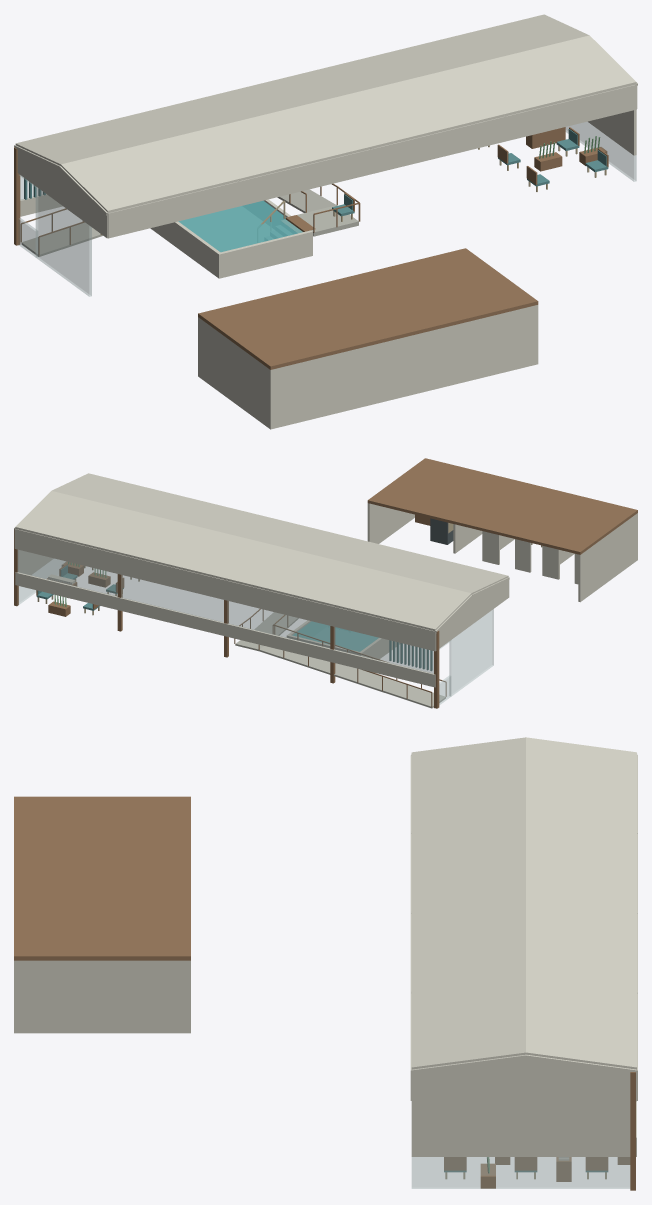
File: VIP_QUIET_FITTED_r005.glb
The picture shows the model from 3 angles, top to bottom: view 1: azimuth 30°, elevation 25°; view 2: azimuth 150°, elevation 25°; view 3: azimuth 270°, elevation 25°; orthographic projection. The views are drawn at different scales.
Parts seen in each view (by area): view 1: F005__G2VIP_QUIET_RoofPanel1, F005__G2VIP_QUIET_AftRoof, F005__G2VIP_QUIET_RoofPanel0, F005__G2VIP_QUIET_AftBack, QUIET_F005_Weather_Aft, F005__G2VIP_QUIET_AftWest, QUIET_F005_InnerWallBody, QUIET_F005_Water_Illustrative, QUIET_F005_TankAft, QUIET_F005_OuterWallLower, QUIET_F005_TankWest, QUIET_F005_Weather_Side-1Aft (+6 smaller); view 2: F005__G2VIP_QUIET_RoofPanel0, F005__G2VIP_QUIET_AftRoof, F005__G2VIP_QUIET_RoofPanel1, F005__G2VIP_QUIET_ForeClerestory, QUIET_F005_Weather_Fore, F005__G2VIP_QUIET_ForePlinth, F005__G2VIP_QUIET_AftWest, QUIET_F005_InnerWallBody, QUIET_F005_RampLeg1, F005__G2VIP_QUIET_AftEast, QUIET_F005_Water_Illustrative, QUIET_F005_Weather_Side-1Aft (+10 smaller); view 3: F005__G2VIP_QUIET_RoofPanel1, F005__G2VIP_QUIET_RoofPanel0, F005__G2VIP_QUIET_AftRoof, F005__G2VIP_QUIET_AftEast, F005__G2VIP_QUIET_OuterWall, QUIET_F005_OuterWallLower, QUIET_F005_Weather_Side1Aft, QUIET_F005_Weather_Side1Fore, QUIET_F005_Weather_Aft.
Boxes of the visible parts, x1,y1,x2,y2 form: F005__G2VIP_QUIET_RoofPanel1: [61, 35, 636, 212]; F005__G2VIP_QUIET_AftRoof: [198, 248, 538, 369]; F005__G2VIP_QUIET_RoofPanel0: [15, 14, 589, 165]; F005__G2VIP_QUIET_AftBack: [269, 305, 538, 429]; QUIET_F005_Weather_Aft: [107, 84, 636, 238]; F005__G2VIP_QUIET_AftWest: [198, 317, 268, 427]; QUIET_F005_InnerWallBody: [35, 187, 91, 296]; QUIET_F005_Water_Illustrative: [178, 200, 302, 252]; QUIET_F005_TankAft: [217, 230, 312, 277]; QUIET_F005_OuterWallLower: [565, 122, 636, 181]; QUIET_F005_TankWest: [152, 221, 219, 275]; QUIET_F005_Weather_Side-1Aft: [60, 170, 107, 238]; F005__G2VIP_QUIET_RoofPanel0: [15, 491, 471, 630]; F005__G2VIP_QUIET_AftRoof: [367, 458, 637, 554]; F005__G2VIP_QUIET_RoofPanel1: [52, 473, 508, 594]; F005__G2VIP_QUIET_ForeClerestory: [17, 549, 433, 673]; QUIET_F005_Weather_Fore: [15, 529, 435, 651]; F005__G2VIP_QUIET_ForePlinth: [15, 572, 435, 687]; F005__G2VIP_QUIET_AftWest: [578, 514, 636, 602]; QUIET_F005_InnerWallBody: [449, 609, 493, 696]; QUIET_F005_RampLeg1: [259, 646, 445, 708]; F005__G2VIP_QUIET_AftEast: [367, 503, 414, 543]; QUIET_F005_Water_Illustrative: [292, 621, 378, 651]; QUIET_F005_Weather_Side-1Aft: [472, 580, 509, 624]; F005__G2VIP_QUIET_RoofPanel1: [411, 737, 525, 1069]; F005__G2VIP_QUIET_RoofPanel0: [526, 737, 636, 1069]; F005__G2VIP_QUIET_AftRoof: [14, 796, 190, 960]; F005__G2VIP_QUIET_AftEast: [17, 960, 190, 1033]; F005__G2VIP_QUIET_OuterWall: [411, 1101, 630, 1156]; QUIET_F005_OuterWallLower: [411, 1157, 630, 1188]; QUIET_F005_Weather_Side1Aft: [411, 1059, 525, 1101]; QUIET_F005_Weather_Side1Fore: [526, 1056, 636, 1101]; QUIET_F005_Weather_Aft: [410, 755, 411, 1100].
Size of the model in its own units: 31.84 by 6.5 by 26.44.
